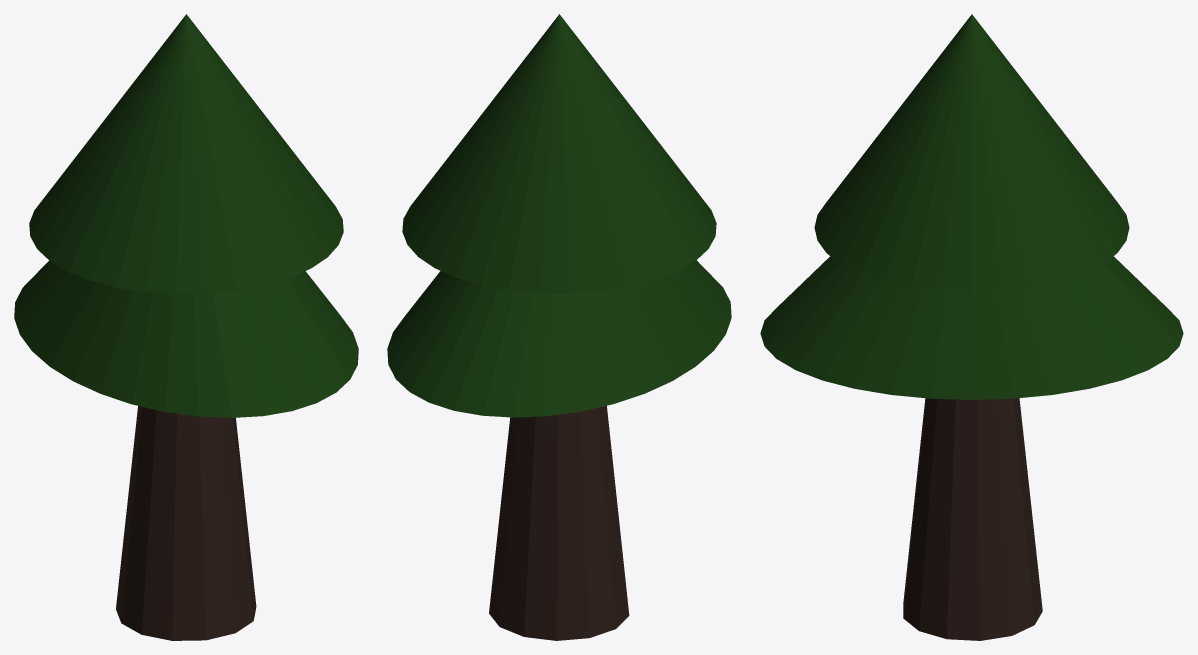
Rendered from Tree1.obj.
3 renders of one model, left to right at view 1: azimuth 30°, elevation 25°; view 2: azimuth 150°, elevation 25°; view 3: azimuth 270°, elevation 25°, orthographic.
Parts seen in each view (by area): view 1: 円錐, 円錐.001, 円柱; view 2: 円錐, 円錐.001, 円柱; view 3: 円錐, 円錐.001, 円柱.
Boxes of the visible parts, <box> form: 円錐: <box>29,14,343,294</box>; 円錐.001: <box>14,260,358,417</box>; 円柱: <box>116,406,256,640</box>; 円錐: <box>402,14,716,293</box>; 円錐.001: <box>387,260,731,417</box>; 円柱: <box>489,405,629,640</box>; 円錐: <box>814,14,1129,294</box>; 円錐.001: <box>760,256,1183,399</box>; 円柱: <box>903,398,1042,640</box>.
Bounding box in the file's own units: 3.34 × 6.99 × 4.49.
